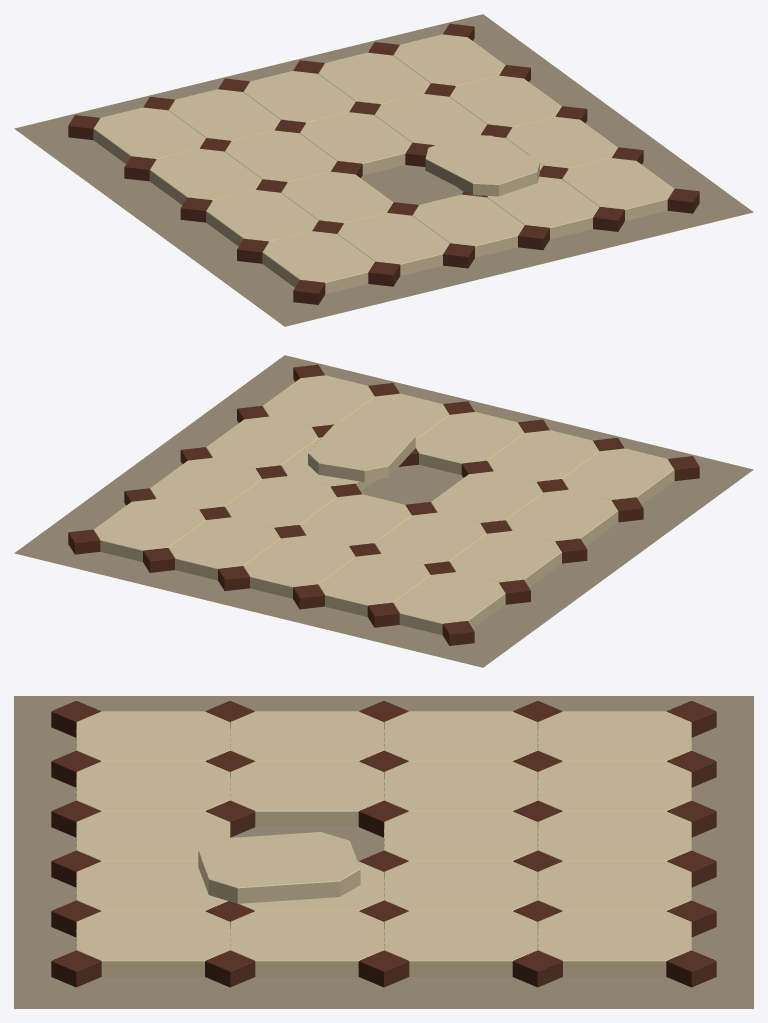
File: terilgan.glb
3 renders of one model, top to bottom at view 1: azimuth 30°, elevation 25°; view 2: azimuth 150°, elevation 25°; view 3: azimuth 270°, elevation 25°, orthographic. The views are drawn at different scales.
Parts seen in each view (by area): view 1: qum, t.026, t.006, t.028, t.024, t.042, t.015, t.012, t.008, t.010, t.033, t.019 (+18 smaller); view 2: qum, t.026, t.012, t.030, t.039, t.048, t.021, t.024, t.006, t.008, t.010, t.017 (+19 smaller); view 3: qum, t.026, t.042, t.048, t.017, t.044, t.046, t.030, t.015, t.021, t.006, t.012 (+38 smaller).
Part boxes in pixels (x1,y1,x2,y2): qum: (14,14,753,326); t.026: (425,134,539,196); t.006: (262,231,374,294); t.028: (299,112,411,175); t.024: (412,194,524,257); t.042: (562,158,674,220); t.015: (337,213,449,275); t.012: (93,107,205,163); t.008: (206,190,318,246); t.010: (149,148,261,205); t.033: (487,176,599,239); t.019: (224,130,336,182); qum: (14,355,753,667); t.026: (308,418,415,482); t.012: (393,572,505,635); t.030: (243,535,355,598); t.039: (168,517,280,580); t.048: (93,499,205,561); t.021: (318,554,430,616); t.024: (415,412,524,474); t.006: (562,448,674,504); t.008: (506,489,618,546); t.010: (449,531,561,587); t.017: (431,471,543,523); qum: (14,696,753,1008); t.026: (198,832,360,903); t.042: (76,911,230,976); t.048: (537,911,691,976); t.017: (230,761,383,826); t.044: (230,911,383,976); t.046: (384,911,537,976); t.030: (537,811,691,861); t.015: (76,761,230,811); t.021: (537,761,691,811); t.006: (76,711,230,761); t.012: (537,711,691,761).
Size of the model in its own units: 1.66 by 0.082 by 1.66.
